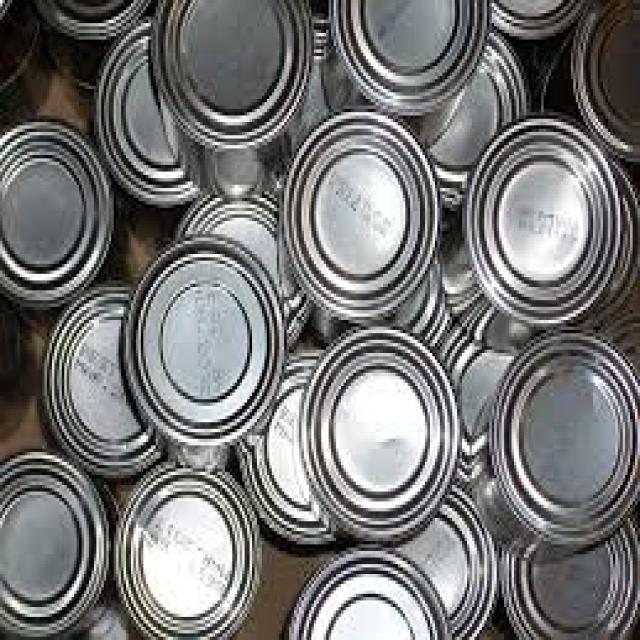metal: (121, 235, 287, 446), (297, 324, 460, 535), (485, 324, 638, 545), (460, 106, 618, 320), (279, 106, 440, 314), (111, 459, 262, 637), (89, 17, 227, 205), (235, 347, 366, 545), (40, 277, 166, 478), (401, 30, 532, 208), (146, 0, 309, 142), (171, 188, 312, 350), (361, 482, 499, 637), (0, 449, 109, 637), (0, 119, 111, 303), (277, 17, 381, 195), (497, 508, 638, 637), (435, 317, 536, 488), (329, 0, 487, 109), (279, 541, 447, 637), (569, 0, 638, 162), (433, 195, 485, 317), (603, 152, 637, 323), (27, 0, 161, 40), (484, 0, 592, 36)
